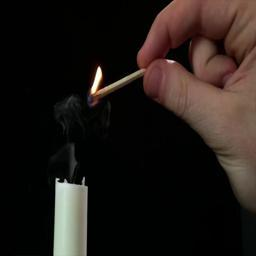fire: (91, 66, 103, 93)
